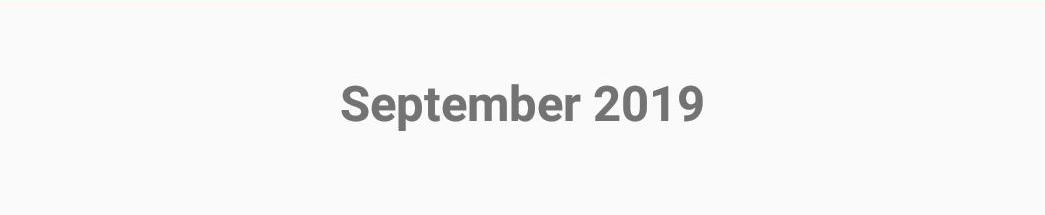TextView: (1, 1, 1044, 214)
